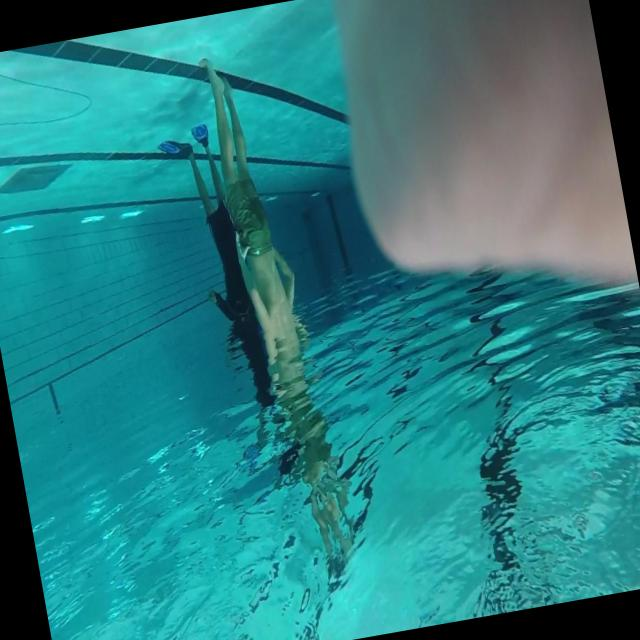human: (197, 49, 319, 418), (156, 118, 279, 420)
